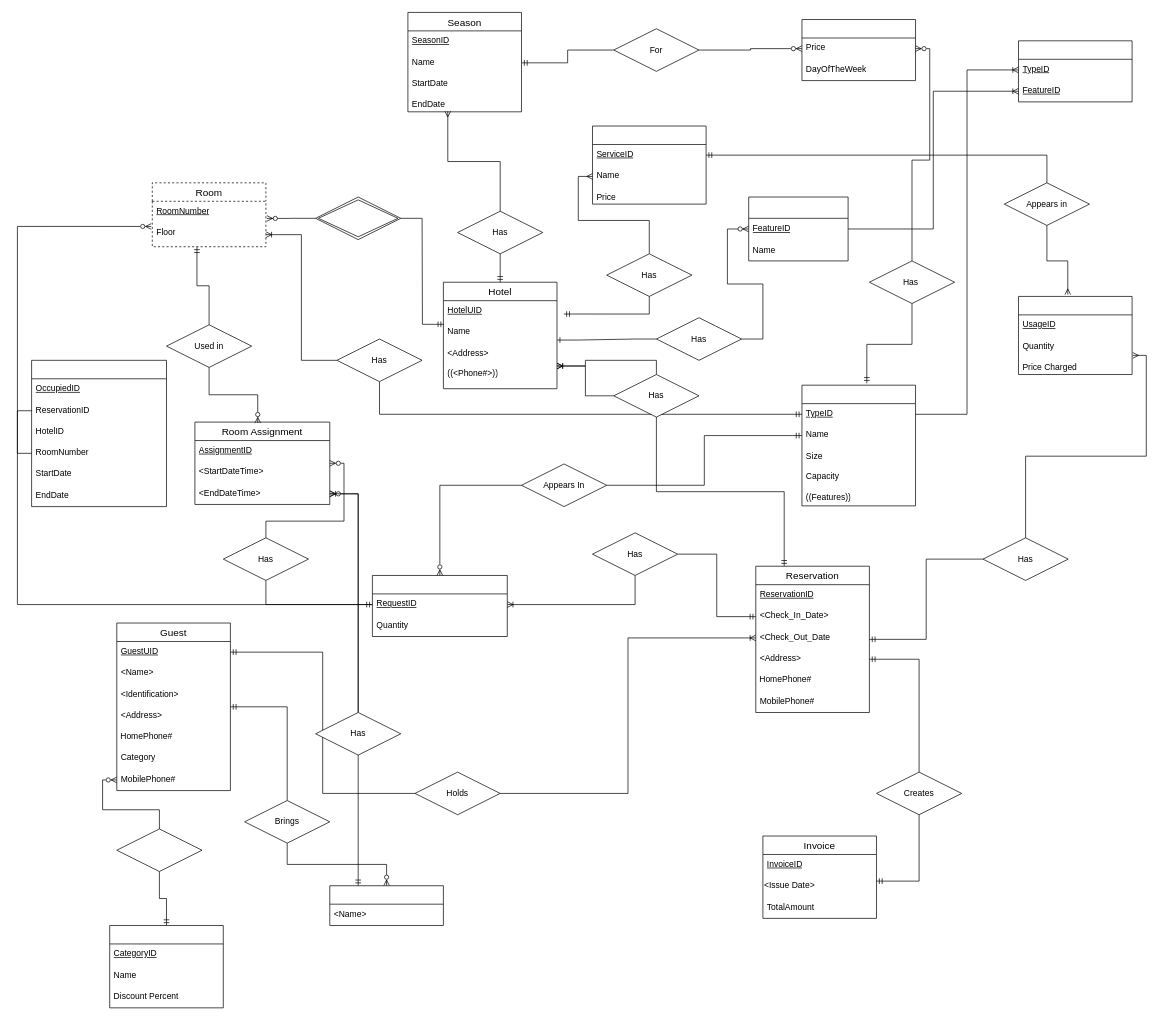
This 1164x1022 diagram has some shape labels left out. Each missing label, with the box of its shape:
Belong: (116, 828, 202, 872)
contains: (315, 196, 401, 240)
Feature_Type: (748, 196, 848, 261)
Guest Category: (109, 925, 223, 1008)
Occupant: (329, 885, 443, 925)
Occupies: (31, 360, 166, 507)
Reservation Room Request: (372, 575, 507, 637)
Room Type: (801, 384, 916, 506)
RoomPrice: (801, 19, 916, 81)
RoomTypeFeature: (1018, 40, 1132, 102)
Service Usage: (1018, 296, 1132, 375)
Services: (592, 125, 706, 204)
